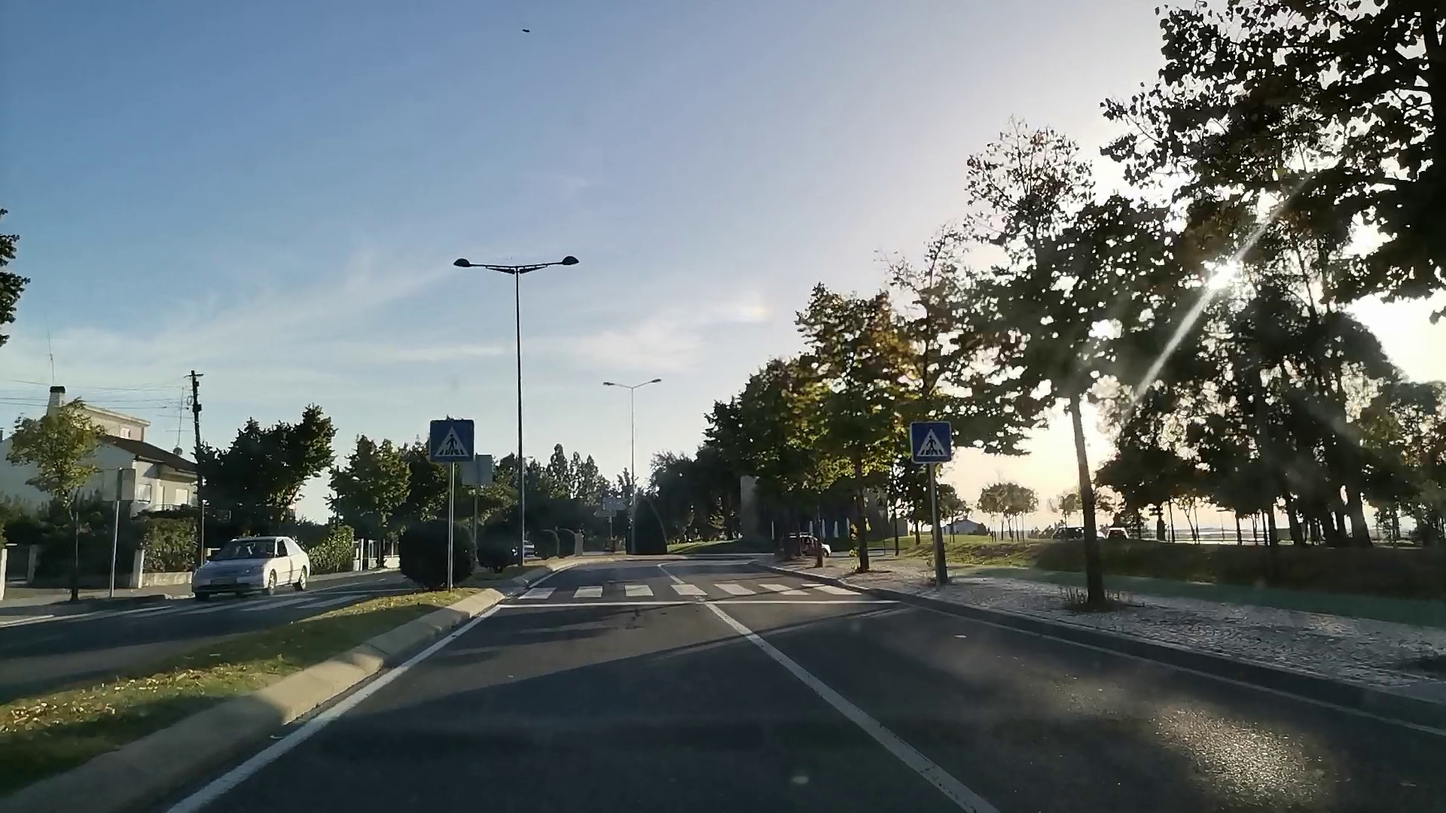Stairs: (498, 572, 868, 612)
